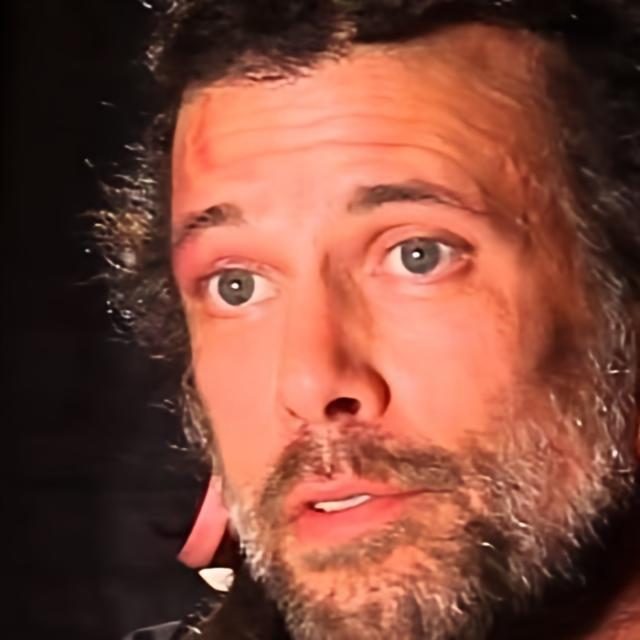surprise: (165, 24, 640, 640)
